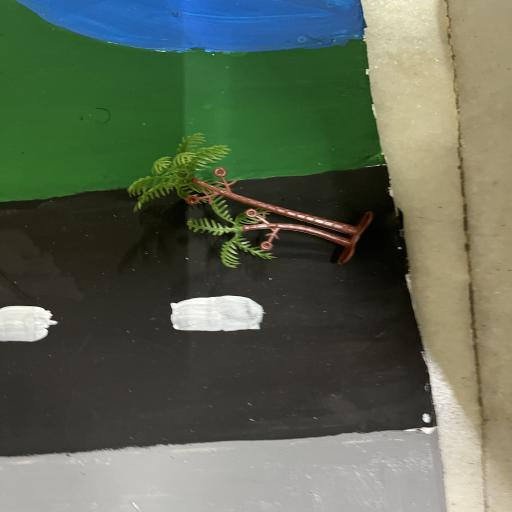fallen trees: (123, 132, 367, 267)
